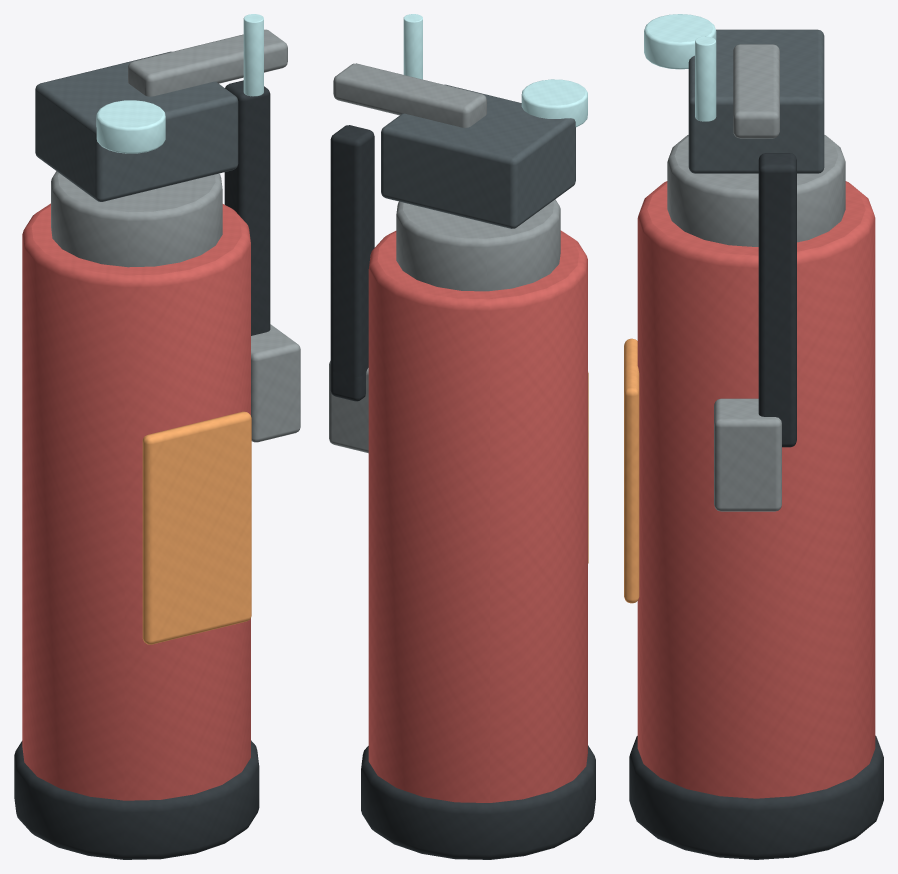
File: FireExtinguisher.glb
The picture shows the model from 3 angles, left to right: view 1: azimuth 30°, elevation 25°; view 2: azimuth 150°, elevation 25°; view 3: azimuth 270°, elevation 25°; orthographic projection. The views are drawn at different scales.
Visible parts, largest first — view 1: FireExtinguisher_Mesh; view 2: FireExtinguisher_Mesh; view 3: FireExtinguisher_Mesh.
Part boxes in pixels (x1,y1,x2,y2): FireExtinguisher_Mesh: (14,14,300,859); FireExtinguisher_Mesh: (329,14,595,859); FireExtinguisher_Mesh: (624,14,883,859).
Size of the model in its own units: 0.355 by 1.06 by 0.306.
6 materials, 6 textured.
